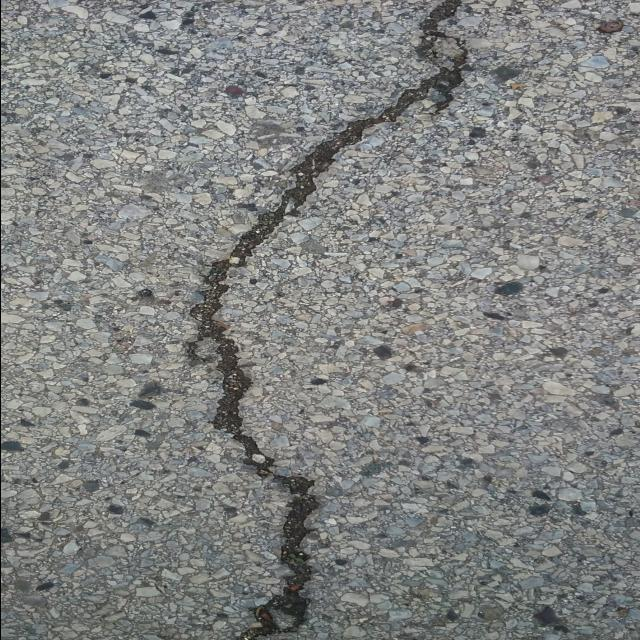Crack: (179, 0, 471, 640)
